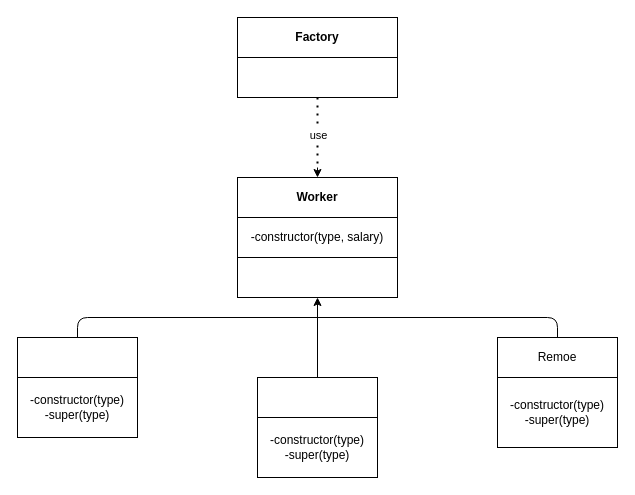
The diagram is 635 pixels wide and 495 high, and some of its shapes have lost their labels. The shapes that lost their labels are listed below. From the top down, each one's centre as x and y in pixels, then its label:
At [317,77]: "+createEmployee(): Worker".
At [317,277]: "+describe()".
At [77,357]: "FullTime".
At [317,397]: "Traine".
